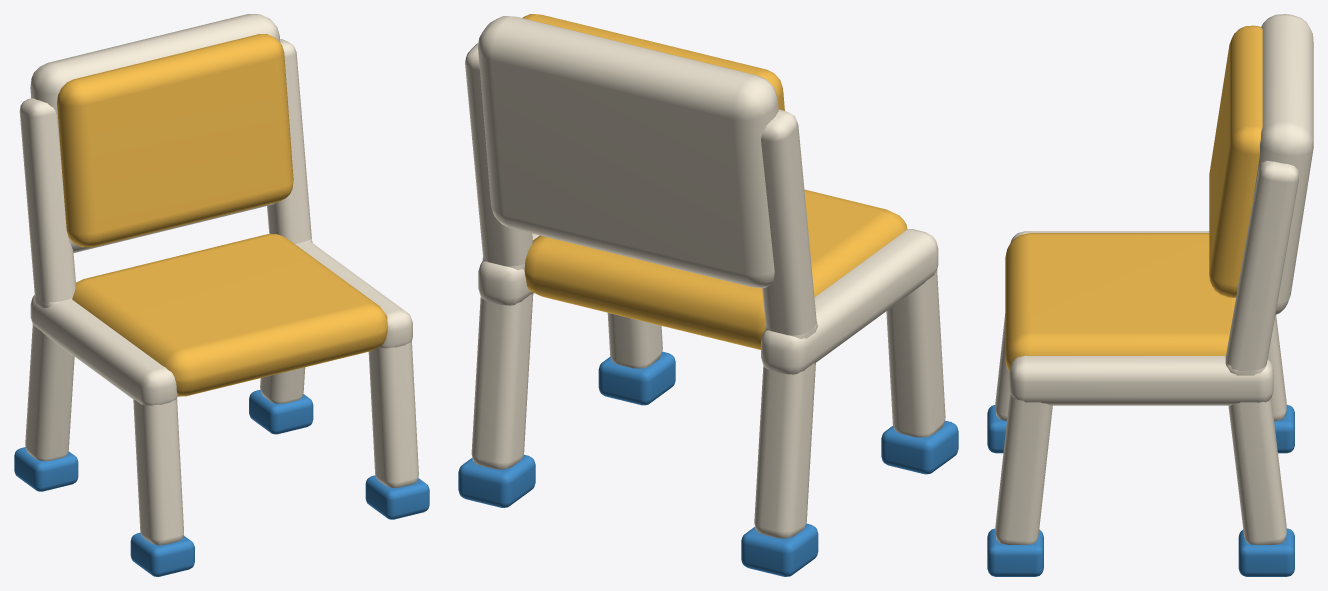
File: Lounge_Break_Chair.glb
3 views of the same model, side by side, from view 1: azimuth 30°, elevation 25°; view 2: azimuth 150°, elevation 25°; view 3: azimuth 270°, elevation 25° (orthographic). The views are drawn at different scales.
Parts seen in each view (by area): view 1: Lounge_Break_Chair__Visual; view 2: Lounge_Break_Chair__Visual; view 3: Lounge_Break_Chair__Visual.
Part boxes in pixels (x1,y1,x2,y2): Lounge_Break_Chair__Visual: (14, 14, 429, 576); Lounge_Break_Chair__Visual: (458, 14, 958, 576); Lounge_Break_Chair__Visual: (987, 14, 1313, 576).
Size of the model in its own units: 0.664 by 0.9238 by 0.6243.
1 material, 1 textured.
